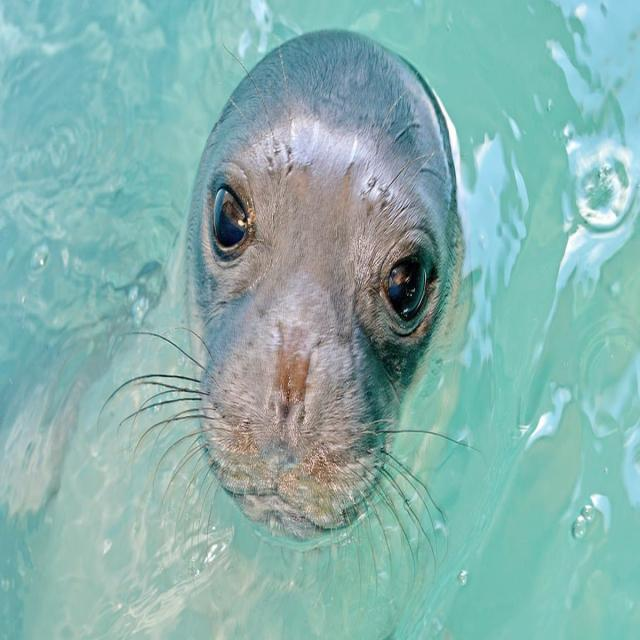seal: (186, 31, 463, 537)
